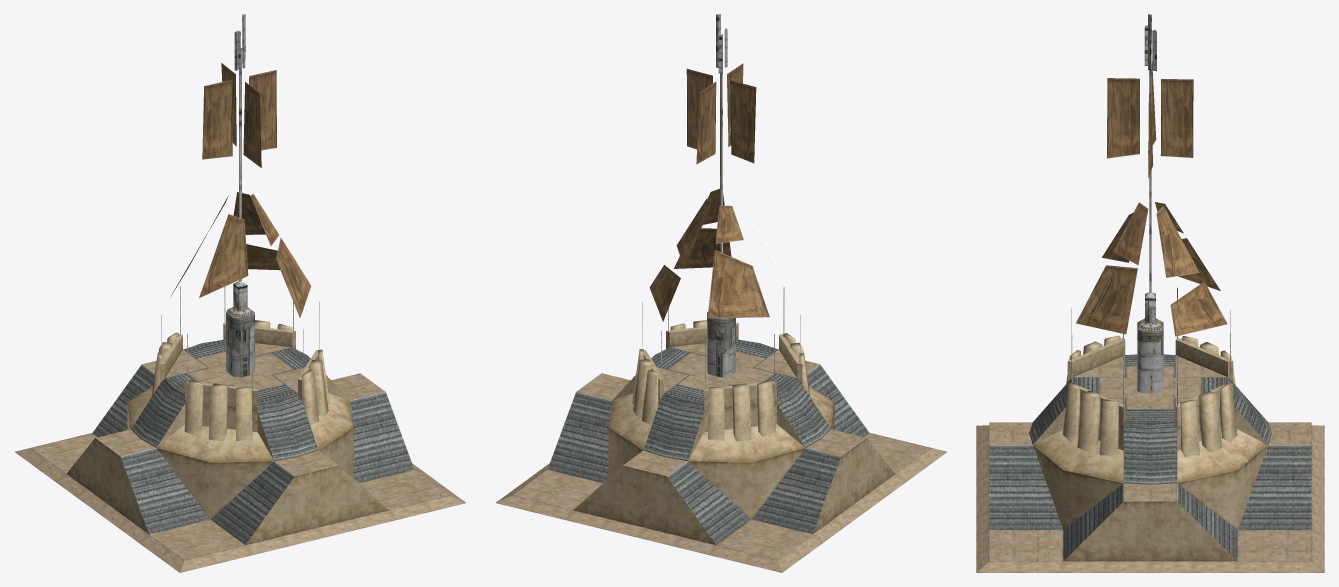
Rendered from ply_tato_bank_s01_l3.fbx.
3 views of the same model, side by side, from view 1: azimuth 30°, elevation 25°; view 2: azimuth 150°, elevation 25°; view 3: azimuth 270°, elevation 25° (orthographic). The views are drawn at different scales.
Visible parts, largest first — view 1: mesh_node; view 2: mesh_node; view 3: mesh_node.
Part boxes in pixels (left/top/right/bottom): mesh_node: left=15, top=14, right=465, bottom=572; mesh_node: left=496, top=14, right=947, bottom=572; mesh_node: left=976, top=14, right=1324, bottom=572.
Size of the model in its own units: 16 by 24.64 by 16.
Materials: 1 (1 with a texture image).
